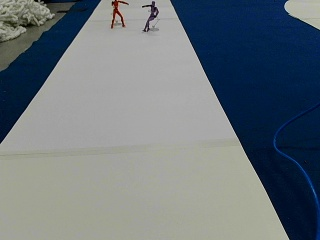pedestrian: (141, 1, 159, 31), (110, 0, 128, 28)
